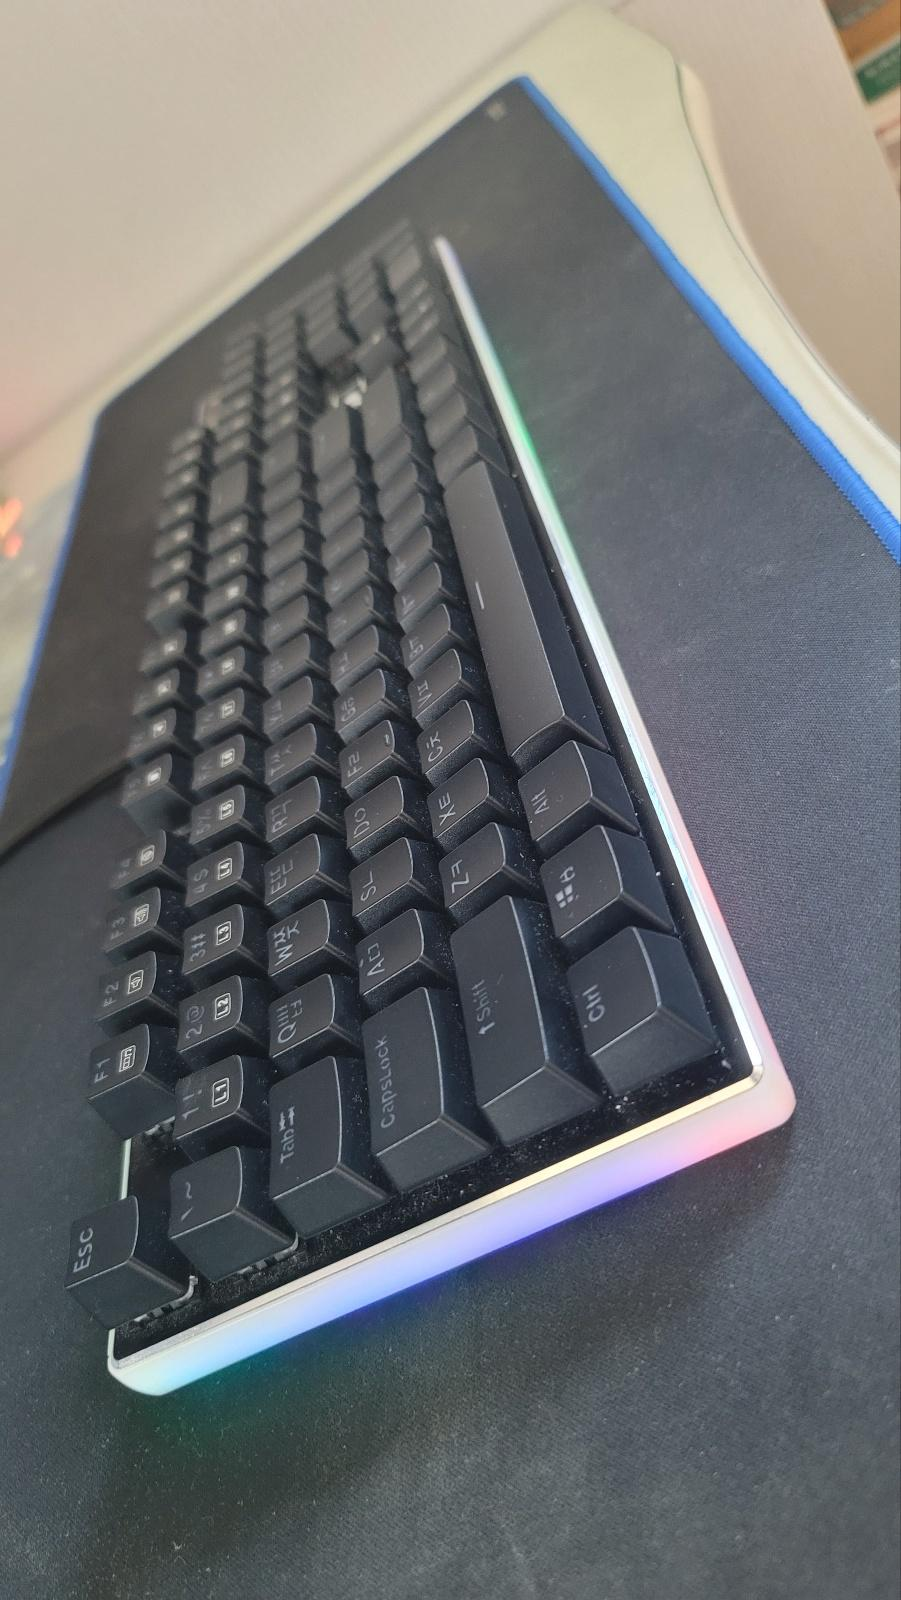keyboard: (2, 209, 797, 1398)
